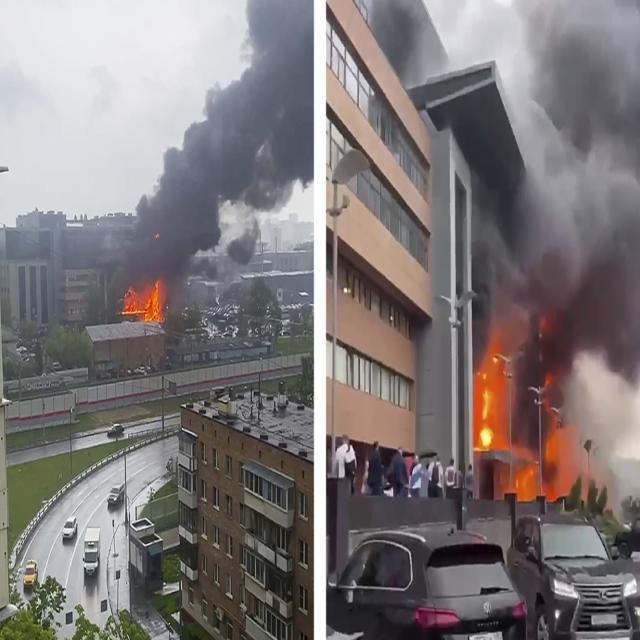Fire: (516, 373, 576, 502), (473, 336, 509, 448), (122, 282, 162, 323)
Smoke: (373, 1, 640, 514), (121, 0, 314, 286), (563, 347, 640, 507)
